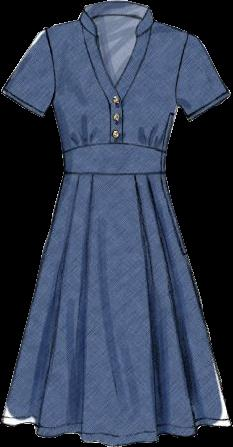Bodice: (45, 1, 190, 175)
Hemline: (0, 418, 232, 446)
Neckline: (82, 4, 151, 90), (115, 21, 158, 143), (76, 18, 114, 145), (59, 140, 165, 155)
Skirt: (1, 174, 231, 445)
Sleeve: (178, 34, 230, 121), (2, 29, 52, 116)
Sleeveline: (175, 33, 192, 109), (42, 27, 57, 103)
Waistline: (61, 169, 166, 179)
